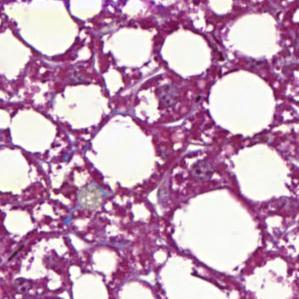steatosis: (80, 121, 163, 187), (210, 73, 281, 137), (227, 148, 293, 206)
